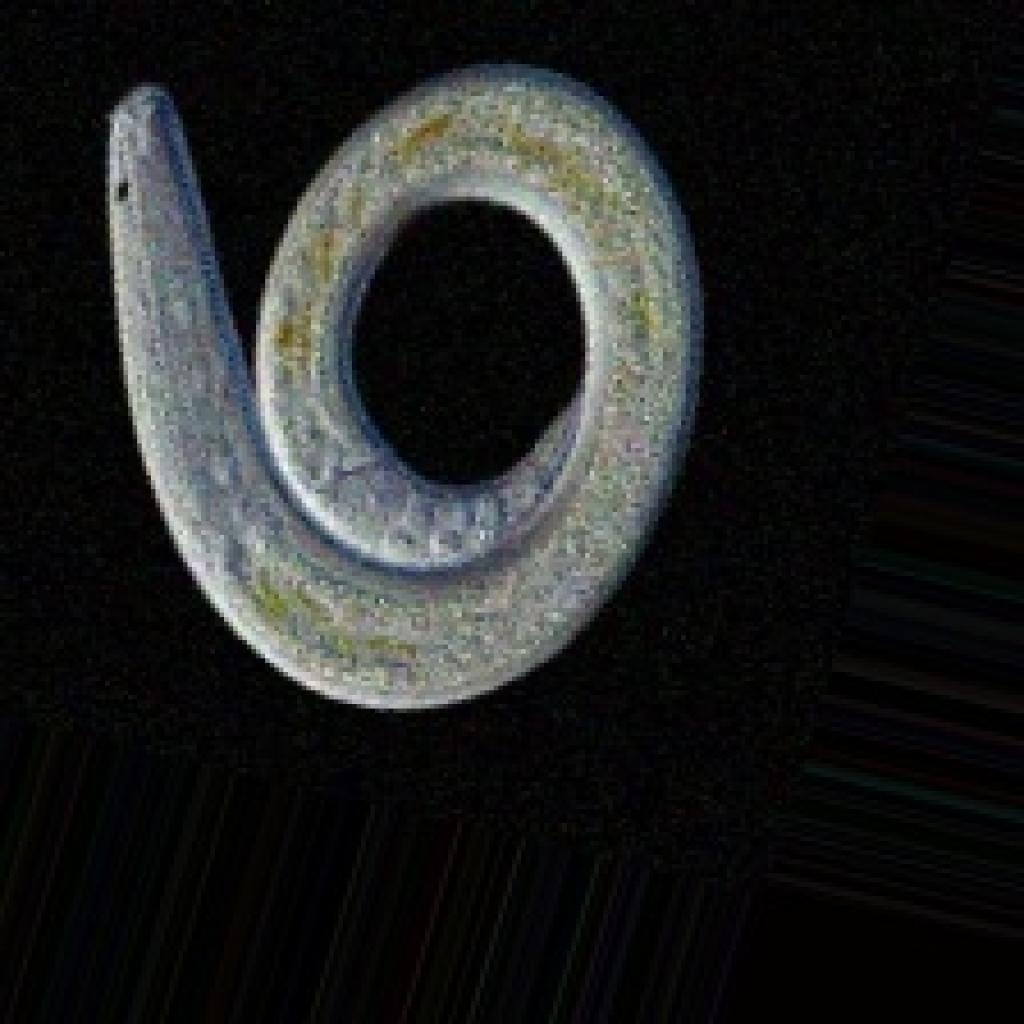Nematode: (96, 55, 709, 713)
